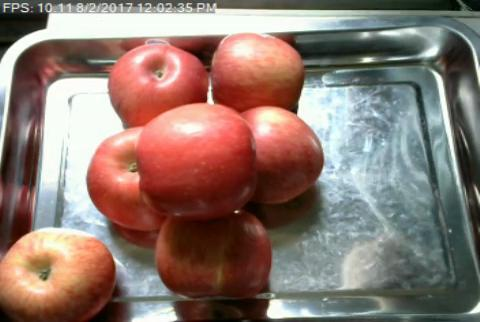apple: (136, 103, 255, 217), (0, 227, 116, 322), (156, 210, 271, 296), (250, 105, 324, 204), (108, 44, 207, 115), (211, 33, 303, 107), (87, 126, 140, 228)
